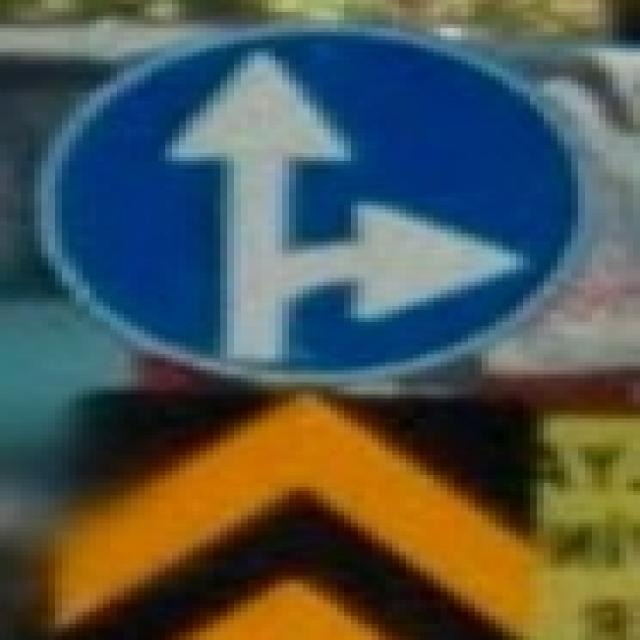Straight or Right: (49, 27, 579, 369)
